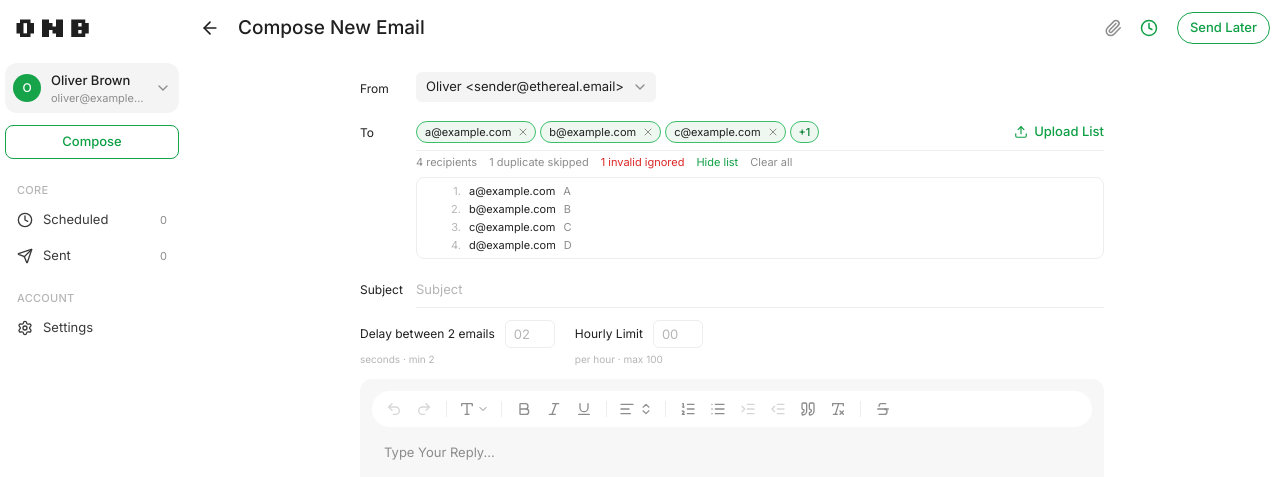
compose › parses an uploaded CSV, counts recipients and shows chips
The width and height of the screenshot is (1280, 477).
Earlier steps of the test are not shown.
Check: the heading "Compose New Email" is shown, box [238, 16, 425, 39]
Check: the text with test id "recipient-count" reads "4 recipients", box [416, 155, 477, 169]
Click the button named "Remove a@example.com" at (523, 132), box [515, 124, 531, 140]
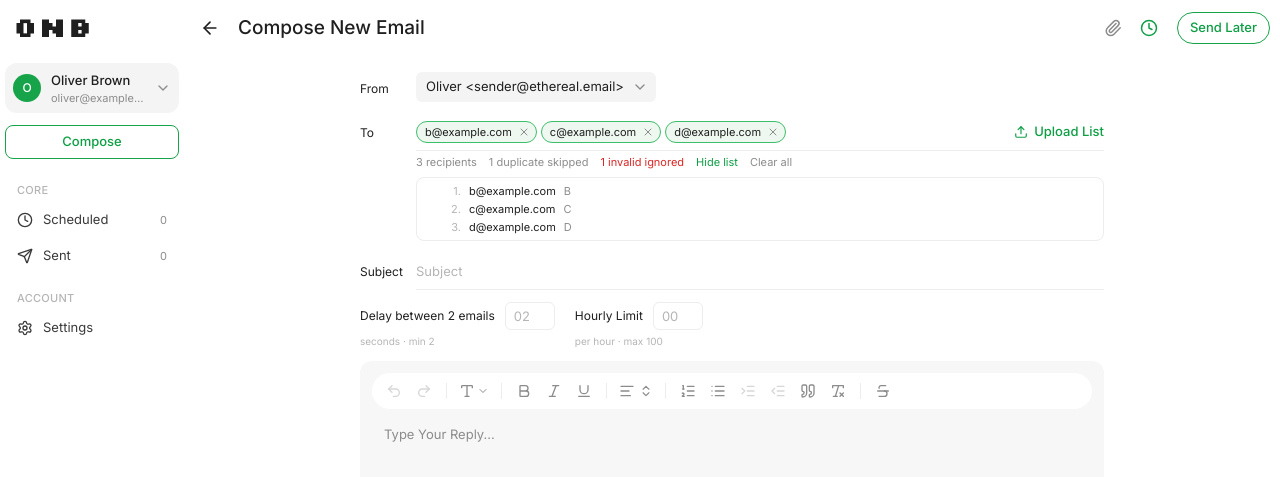
Check: the text with test id "recipient-count" reads "3 recipients", box [416, 155, 477, 169]
